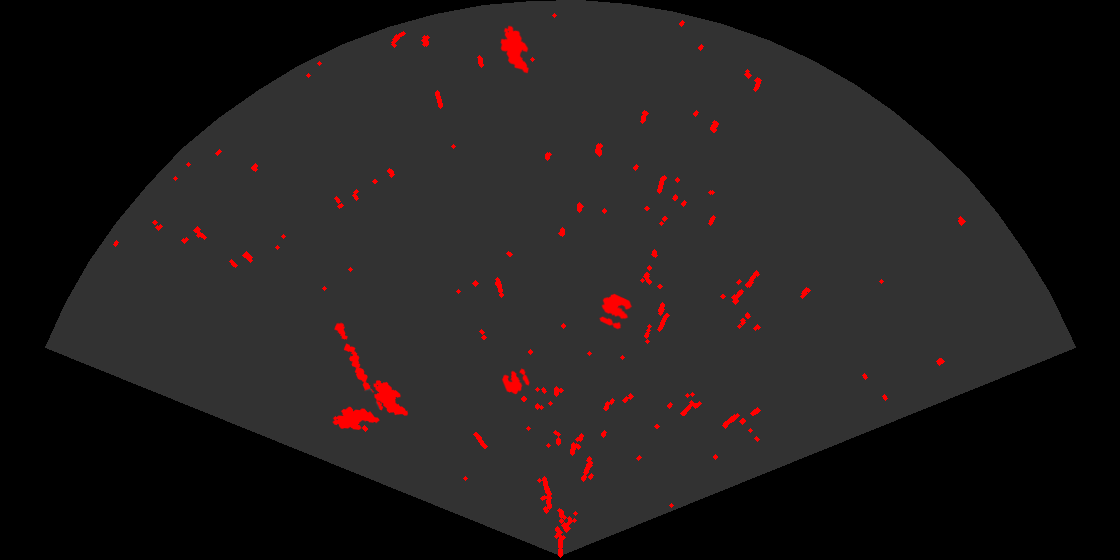AUV: (499, 24, 531, 75), (372, 379, 410, 417), (331, 405, 381, 432)
ball: (598, 292, 634, 331), (500, 367, 531, 396)
chain: (333, 321, 385, 412)
